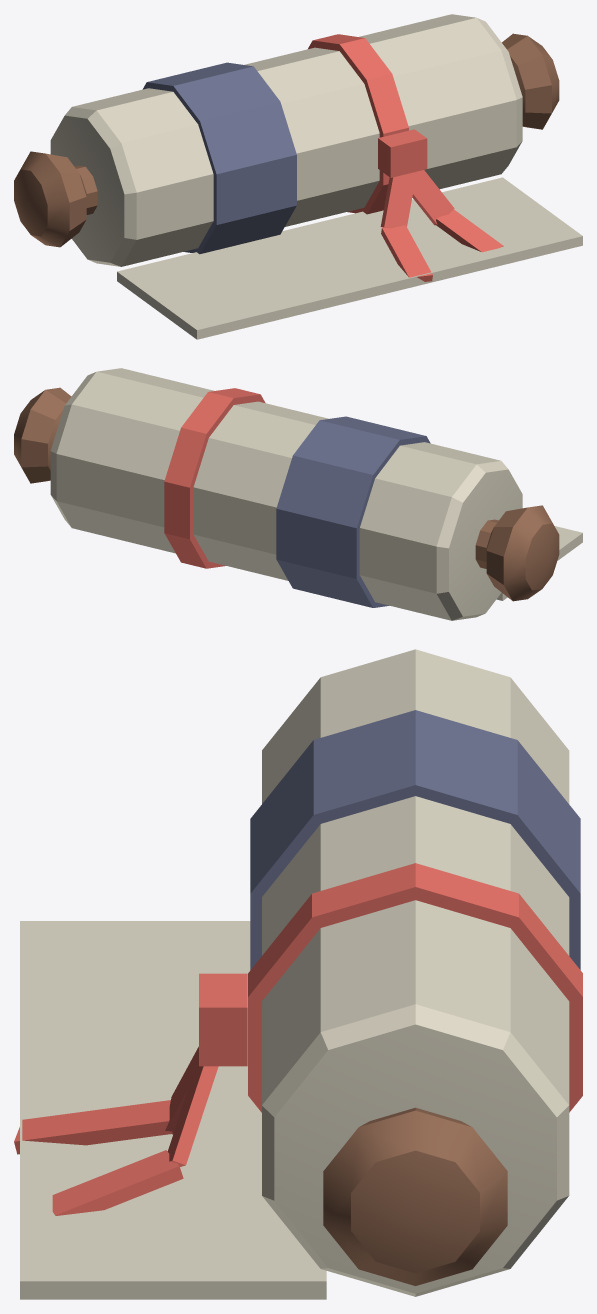
The model's file is ManualScroll.fbx.
The picture shows the model from 3 angles, top to bottom: view 1: azimuth 30°, elevation 25°; view 2: azimuth 150°, elevation 25°; view 3: azimuth 270°, elevation 25°; orthographic projection. The views are drawn at different scales.
Visible parts, largest first — view 1: ManualScrollPaper, ManualScrollLabel, ManualScrollTie, ManualScrollRod; view 2: ManualScrollPaper, ManualScrollLabel, ManualScrollRod, ManualScrollTie; view 3: ManualScrollPaper, ManualScrollTie, ManualScrollLabel, ManualScrollRod.
Part boxes in pixels (box(x1,y1,x2,y2)): ManualScrollPaper: box(50, 14, 582, 339); ManualScrollLabel: box(142, 62, 296, 254); ManualScrollTie: box(308, 34, 503, 281); ManualScrollRod: box(14, 33, 559, 247); ManualScrollPaper: box(50, 368, 582, 620); ManualScrollLabel: box(276, 416, 430, 607); ManualScrollRod: box(14, 387, 559, 601); ManualScrollTie: box(164, 388, 265, 568); ManualScrollPaper: box(20, 649, 569, 1299); ManualScrollTie: box(14, 863, 582, 1215); ManualScrollLabel: box(250, 710, 580, 969); ManualScrollRod: box(323, 1107, 507, 1285).
Size of the model in its own units: 1.44 by 0.436 by 0.7046.
